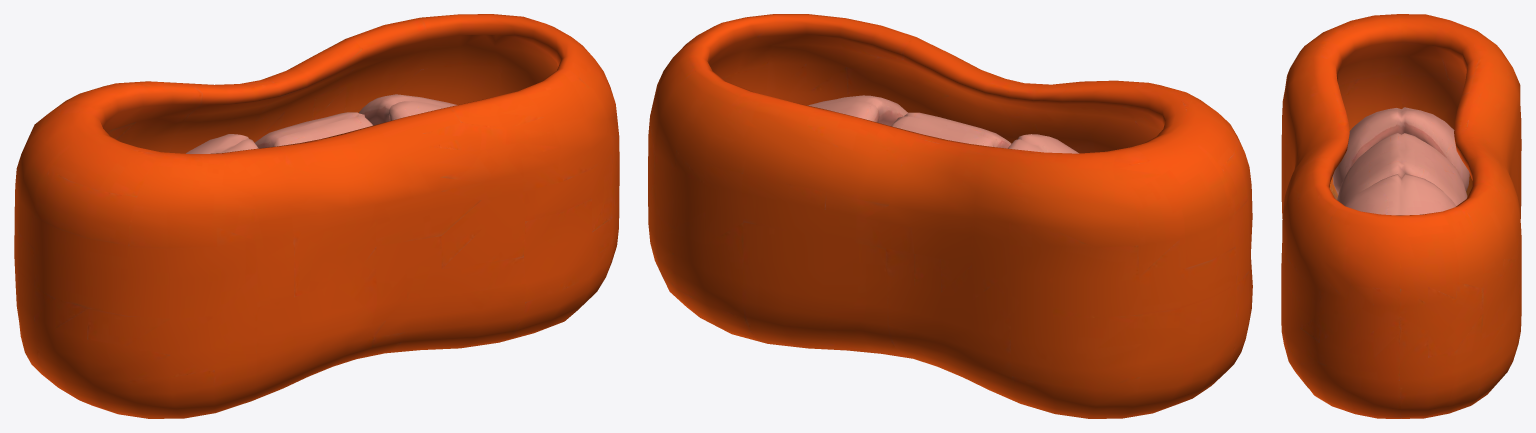
File: mitochondrion.glb
The picture shows the model from 3 angles, left to right: view 1: azimuth 30°, elevation 25°; view 2: azimuth 150°, elevation 25°; view 3: azimuth 270°, elevation 25°; orthographic projection. The views are drawn at different scales.
Size of the model in its own units: 0.957 by 0.4228 by 0.4228.
1 material, 1 textured.
